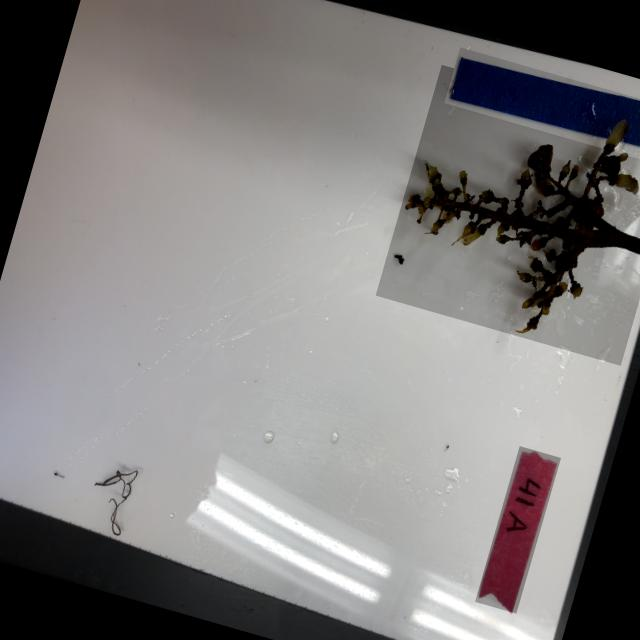index: (474, 446, 560, 614)
measure_label: (442, 46, 640, 166)
rachis_cluster: (374, 64, 640, 365)
